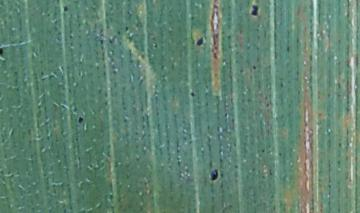tarspot: (207, 165, 222, 184), (247, 1, 262, 19), (193, 34, 206, 50), (75, 113, 86, 126), (1, 44, 8, 63), (188, 88, 198, 100), (60, 3, 70, 14), (250, 62, 259, 72)
